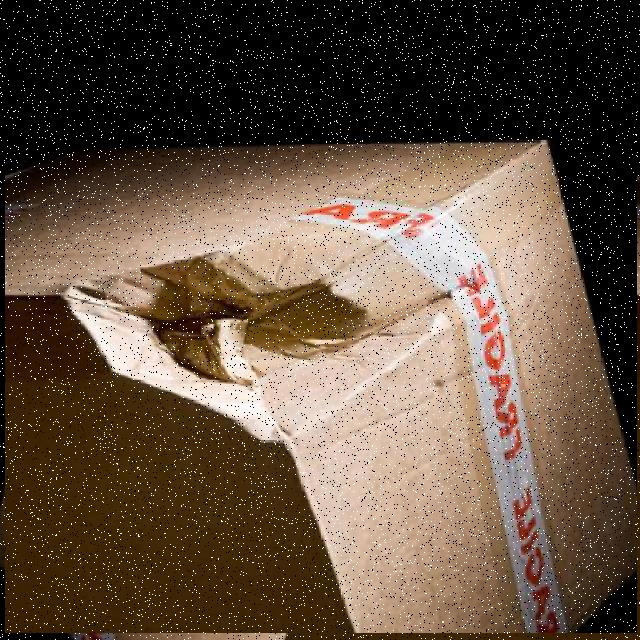defect: (5, 128, 637, 632)
